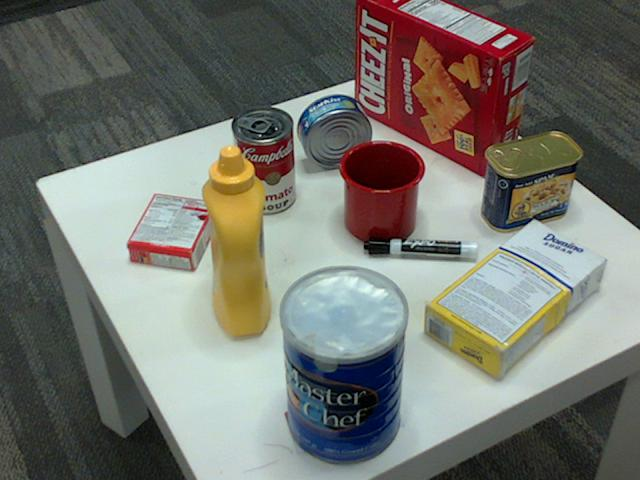cracker_box: (354, 0, 533, 175)
gelatin_box: (123, 190, 215, 267)
large_marker: (364, 237, 478, 263)
master_chef_can: (279, 267, 408, 467)
mug: (336, 139, 424, 243)
mustard_bottle: (199, 145, 269, 336)
potted_meat_can: (480, 133, 580, 233)
sugar_box: (421, 219, 604, 380)
tomato_soup_can: (230, 107, 294, 215)
tuna_fish_can: (295, 94, 370, 168)
